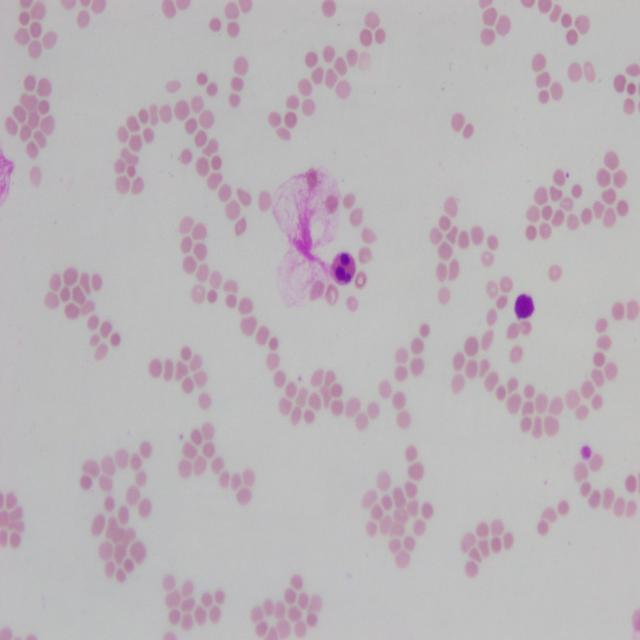cell: (515, 293, 534, 318)
